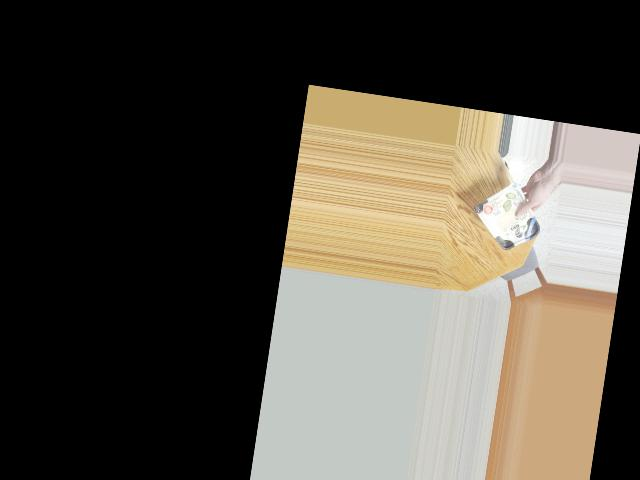cheese: (476, 189, 539, 254)
